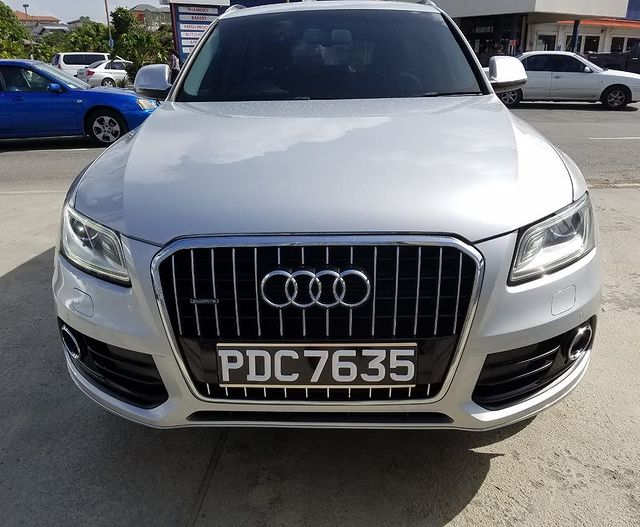License-Plate: (216, 344, 415, 386)
